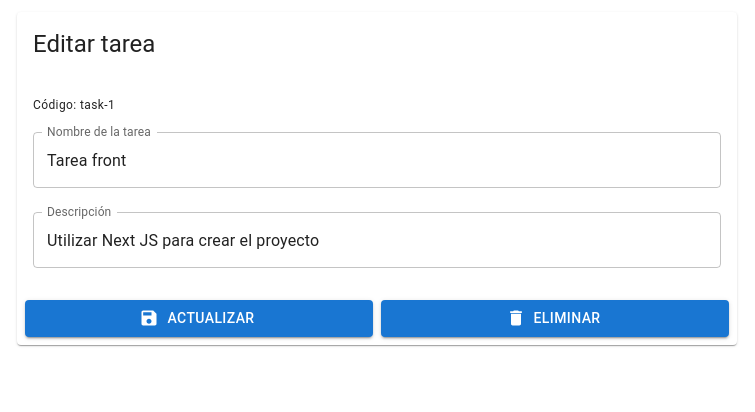
editForm › should show "El nombre es obligatorio" and "La descripción es obligatoria" if fields are empty
Clear the field labelled "Nombre de la tarea" at (377, 160), box x1=33 y1=132 x2=721 y2=188
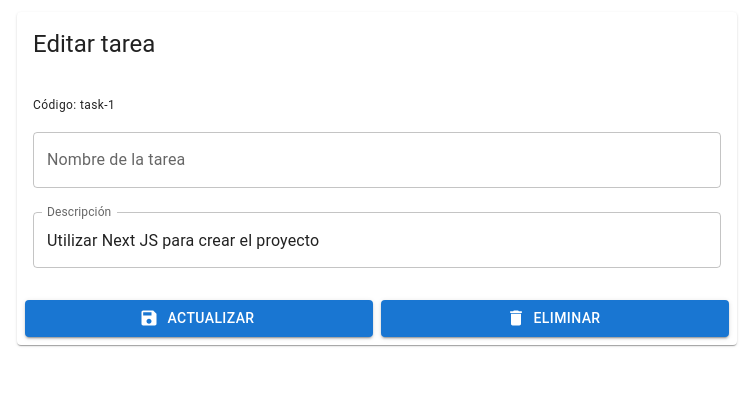
Clear the field labelled "Descripción" at (377, 240), box x1=33 y1=212 x2=721 y2=268
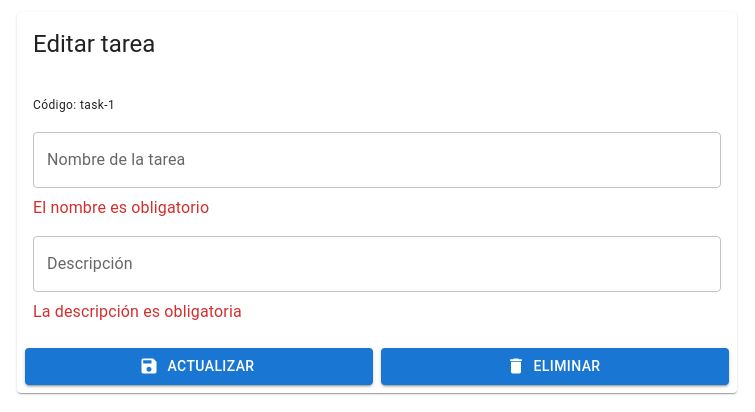
Check: the text "El nombre es obligatorio" is shown, box x1=33 y1=198 x2=209 y2=217
Check: the text "La descripción es obligatoria" is shown, box x1=33 y1=302 x2=242 y2=321
